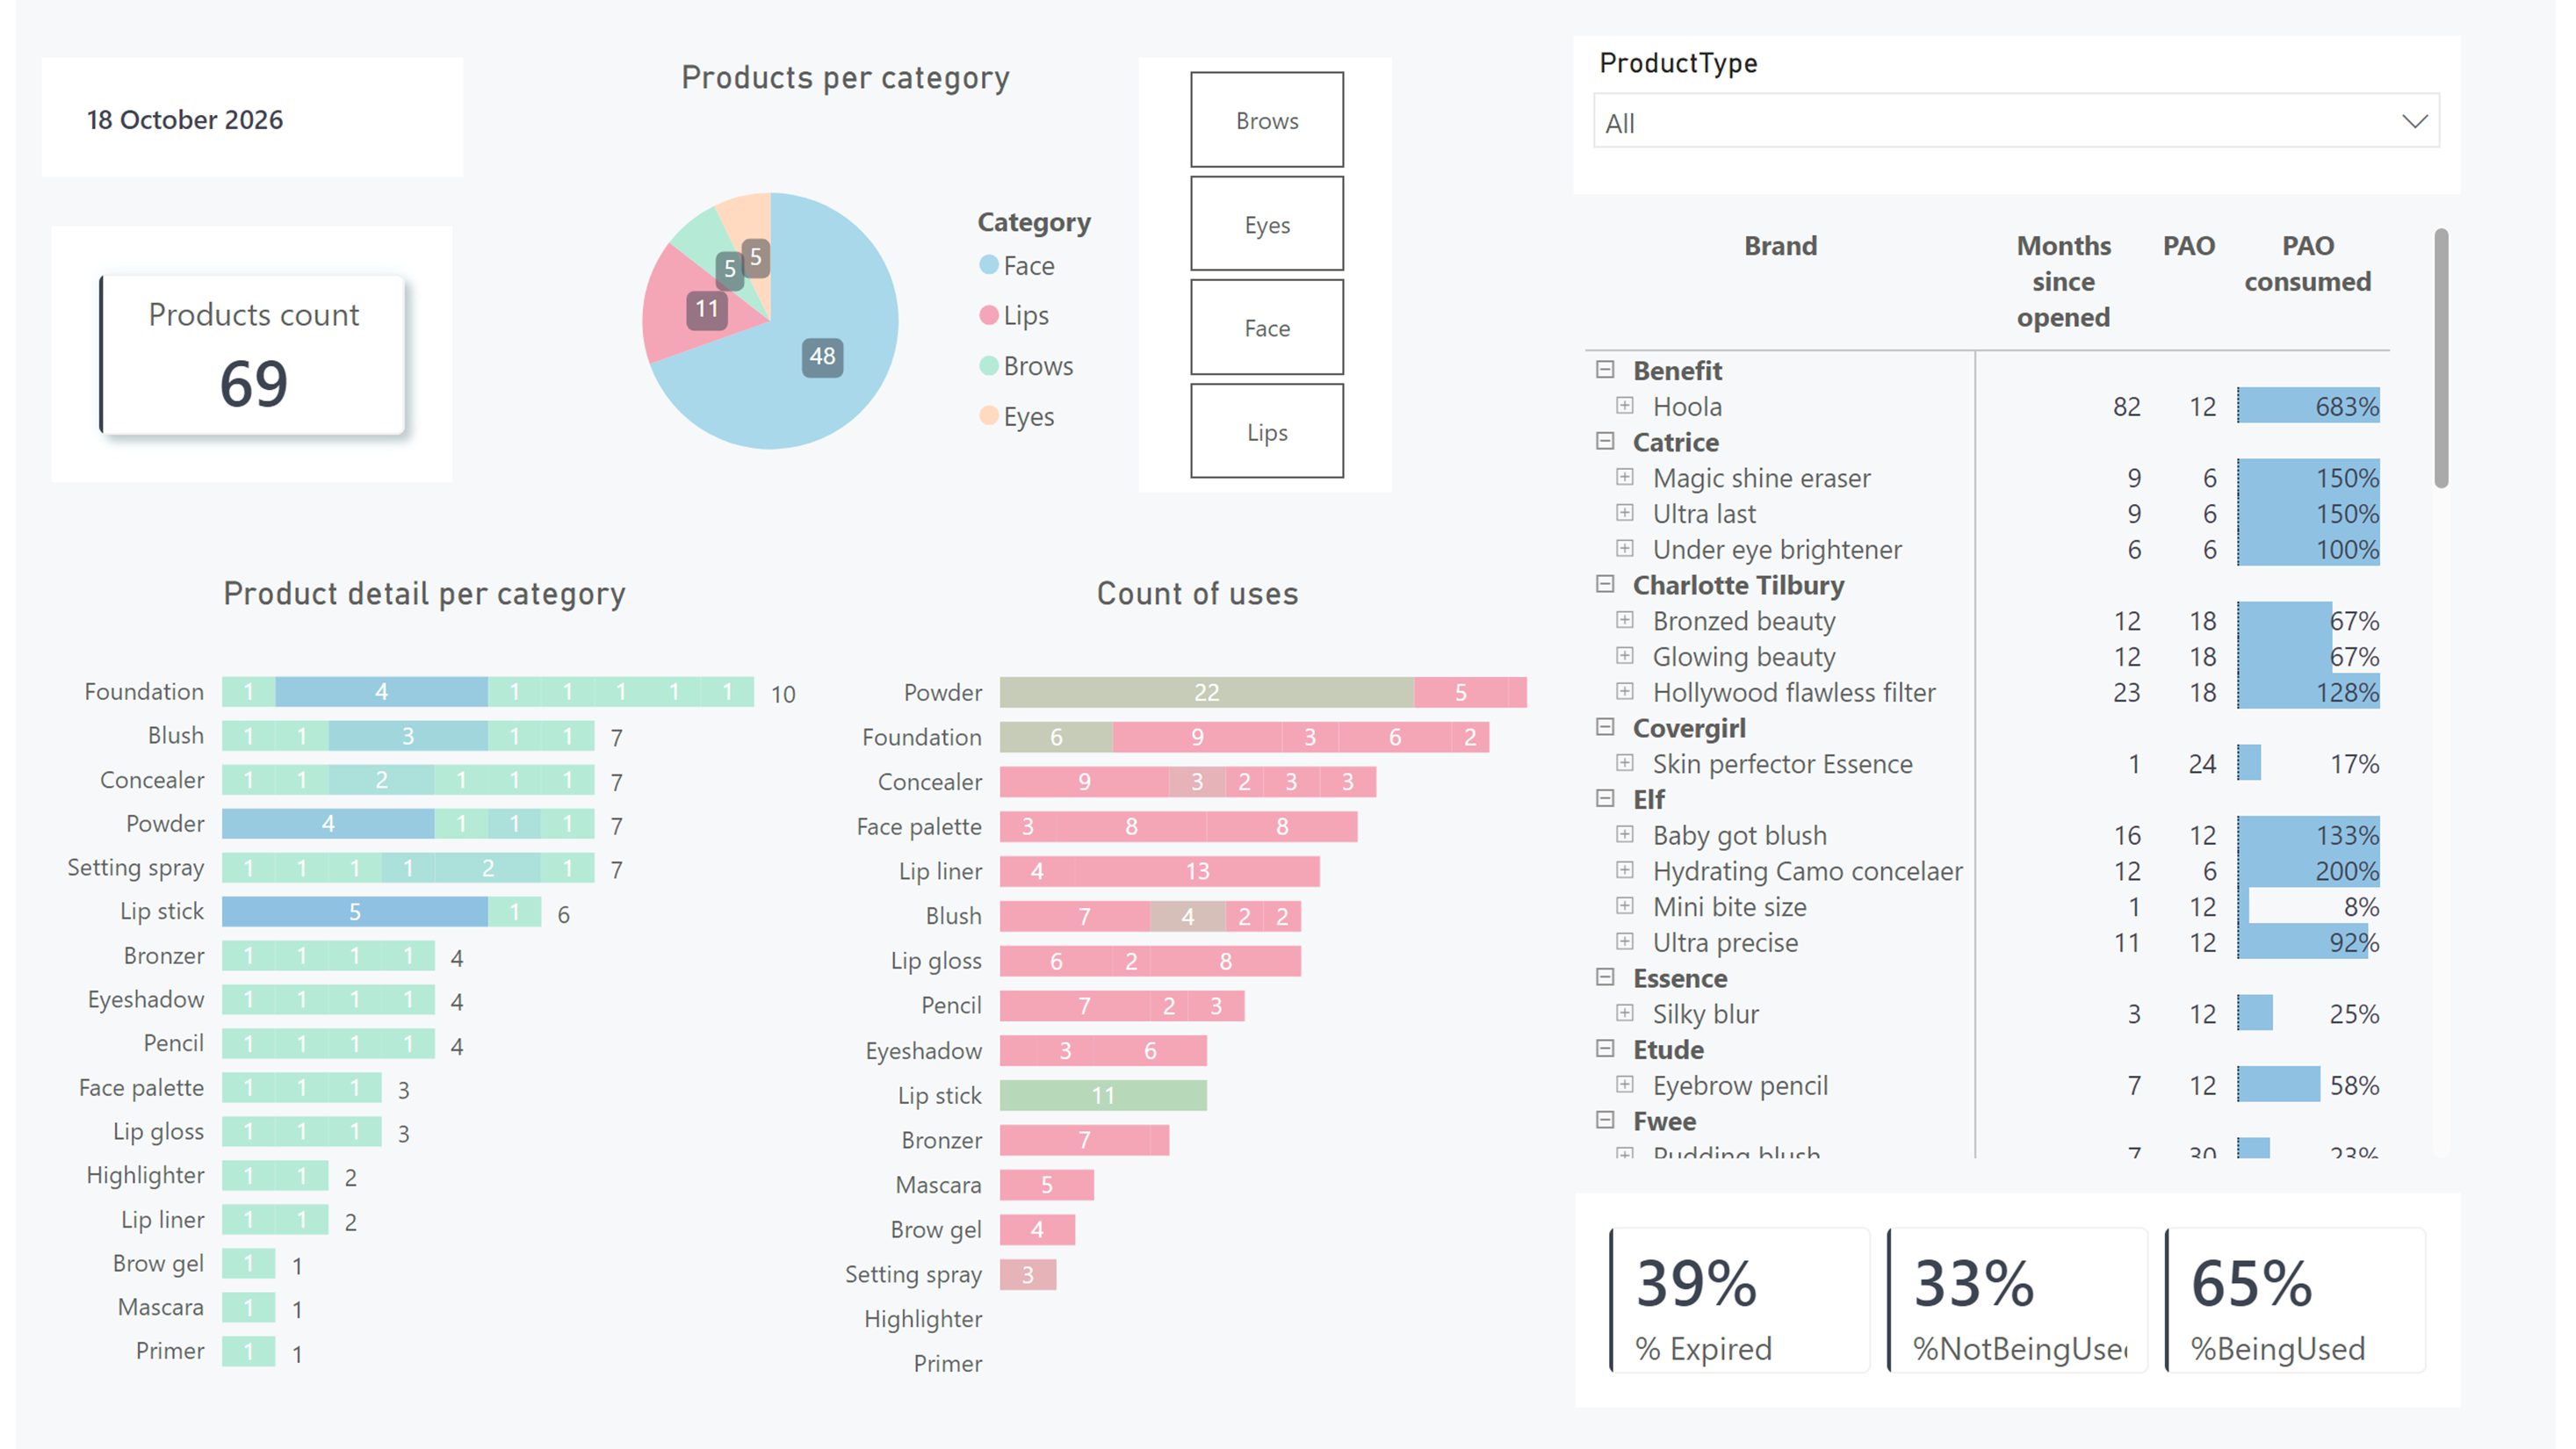

The dashboard page shown, as its layout file describes it:
{"tool":"powerbi","page":{"name":"Inventory","canvas":[1280,720],"ordinal":0},"visuals":[{"type":"pieChart","title":"Products per category","fields":{"Category":["Products.Category"],"Y":["CountNonNull(Products.ProductID)"]},"box":[270.5,29.3,294.6,235.5],"z":0},{"type":"barChart","title":"Product detail per category","fields":{"Category":["Products.ProductType"],"Series":["Products.ProductName"],"Y":["CountNonNull(Products.ProductID)"]},"box":[13.6,289.2,384.1,413.5],"z":1000},{"type":"barChart","title":"Count of uses","fields":{"Category":["Products.ProductType"],"Series":["Products.ProductName"],"Y":["Sum(Usage log.UsesSeptember)"]},"box":[405.6,289.2,379.6,420.3],"z":2000},{"type":"slicer","fields":{"Values":["Usage log.Category"]},"box":[585.5,29.3,146.4,228.1],"z":3000},{"type":"cardVisual","fields":{"Data":["CountNonNull(Products.ProductID)"]},"box":[12.1,125.2,212.8,139.2],"z":4000},{"type":"pivotTable","fields":{"Rows":["Products.Brand","Products.ProductName","Products.Shade"],"Values":["Products.TimeFromOpening","Sum(Products.ExpiryMonthsAfterOpening)","Products.%BeforeExpiring"]},"box":[785.4,29.3,446.2,674.3],"z":5000},{"type":"cardVisual","fields":{"Data":["Products.CurrentDate"]},"box":[13.1,29.3,212.4,59.9],"z":6000}]}

Visuals, with their boxes in screenshot pixels (x1, y1, x2, y2), scaled from the page's 1280x720 canvas onto the 2576x1449 screenshot:
"Products per category" pieChart: select_region(545, 59, 1137, 533)
"Product detail per category" barChart: select_region(27, 582, 800, 1414)
"Count of uses" barChart: select_region(816, 582, 1580, 1428)
slicer - Usage log.Category: select_region(1179, 59, 1473, 518)
cardVisual - CountNonNull(Products.ProductID): select_region(25, 252, 452, 532)
pivotTable - Products.Brand x Products.ProductName: select_region(1581, 59, 2479, 1416)
cardVisual - Products.CurrentDate: select_region(26, 59, 454, 179)
